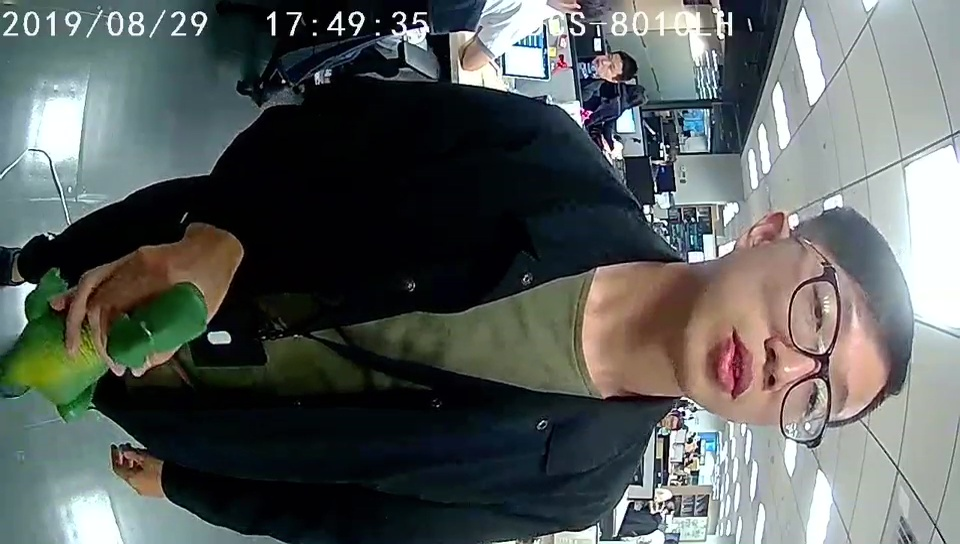rex: (5, 267, 211, 424)
